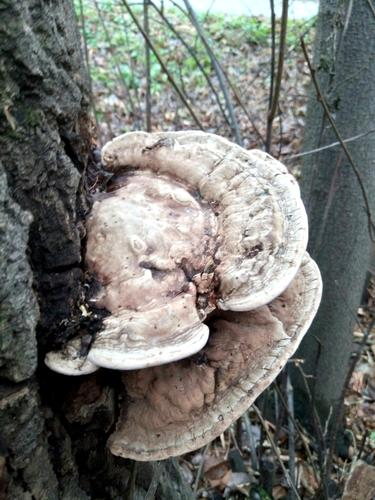Ganoderma - Fruit Body: (48, 125, 321, 473)
